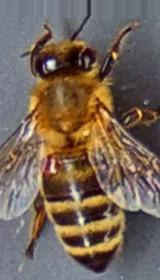varroa_mite: (27, 149, 68, 181)
